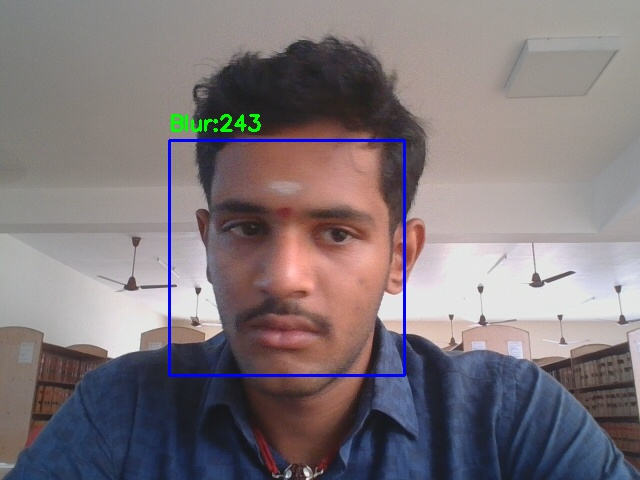real: (169, 140, 404, 375)
